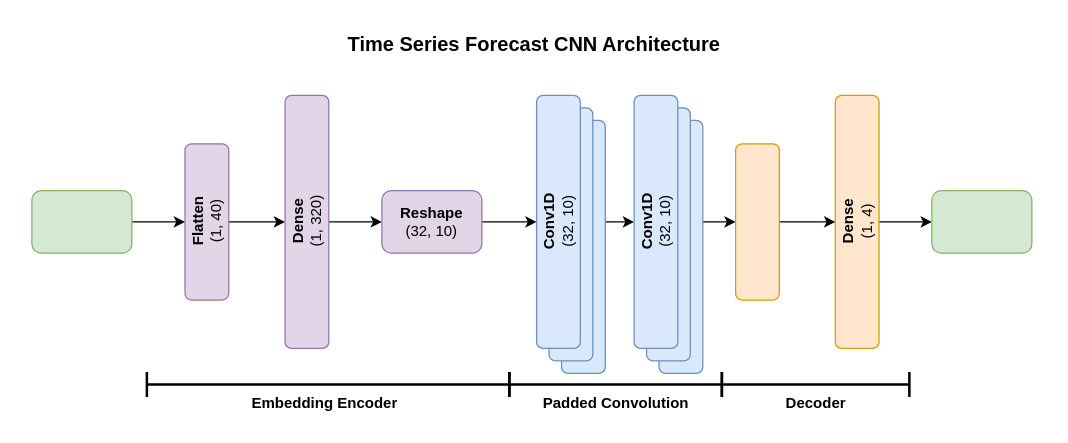
This 1068x443 diagram has some shape labels left out. Here are the shapes that lost their labels. From the top down, the centre of each, then its label:
At point 81,221: "Input (4, 10)".
At point 756,221: "Flatten (1, 320)".
At point 981,221: "Output".
